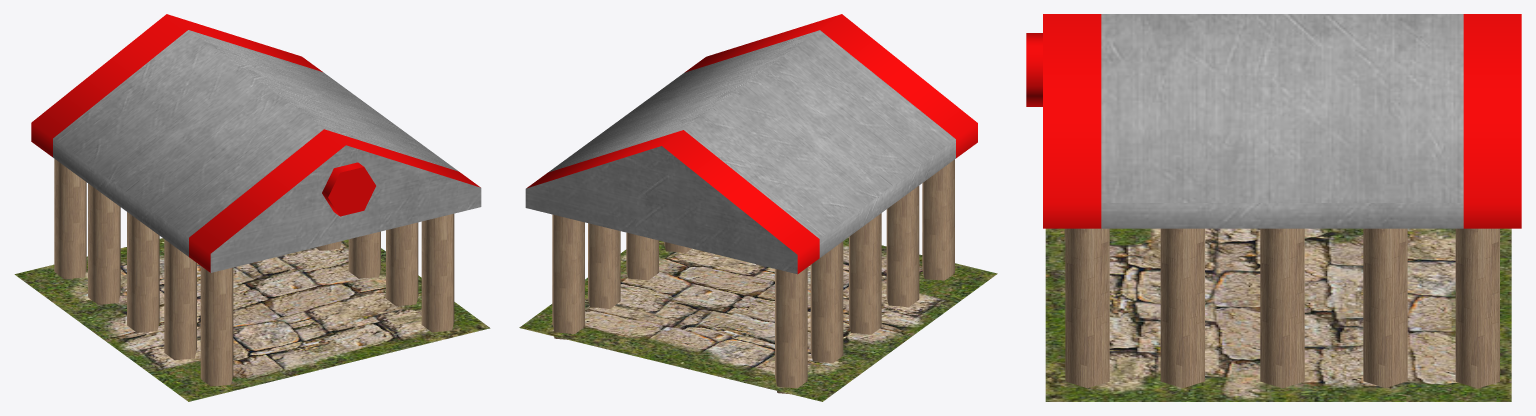
File: tech.obj
The picture shows the model from 3 angles, left to right: view 1: azimuth 30°, elevation 25°; view 2: azimuth 150°, elevation 25°; view 3: azimuth 270°, elevation 25°; orthographic projection. The views are drawn at different scales.
Size of the model in its own units: 2 by 1.43 by 2.13.
4 materials, 3 textured.
